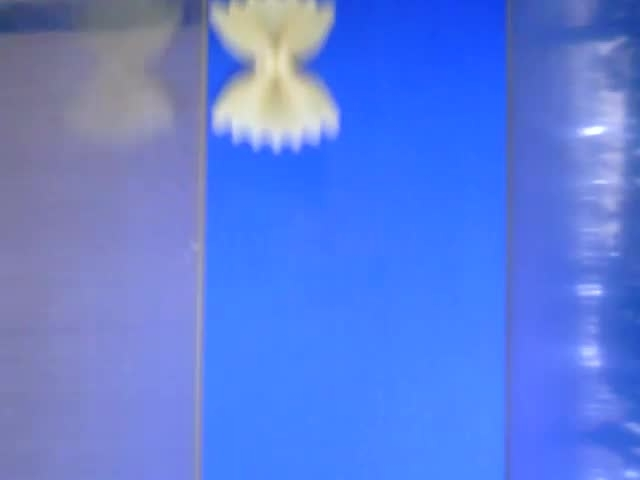farfalle: (209, 1, 342, 152)
